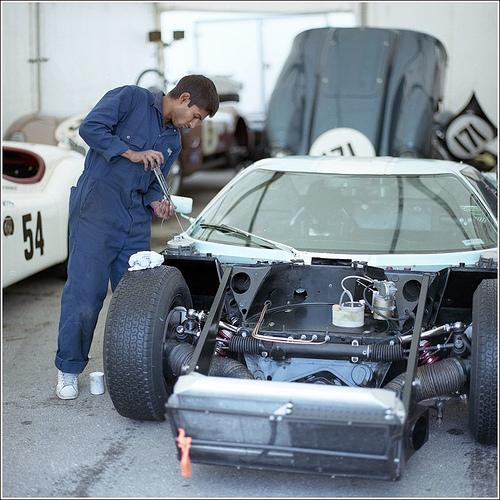person: (54, 73, 221, 405)
